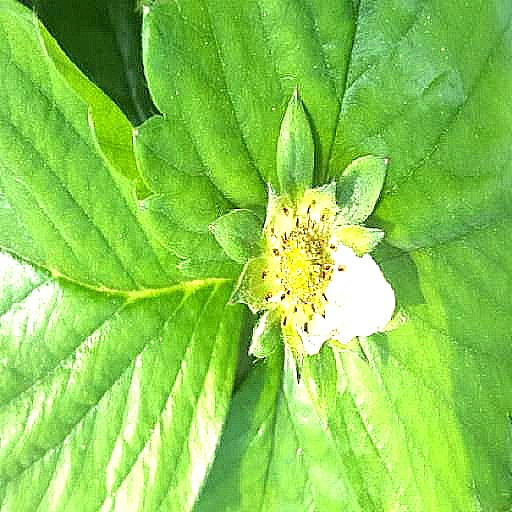Blossom Blight: (257, 173, 351, 313)
